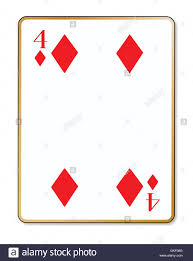four of diamonds: (20, 18, 172, 224)
